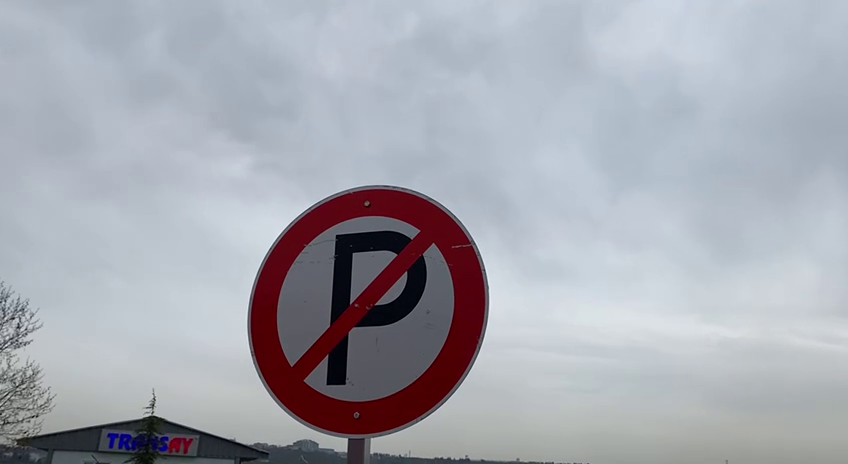noparking: (242, 182, 492, 440)
